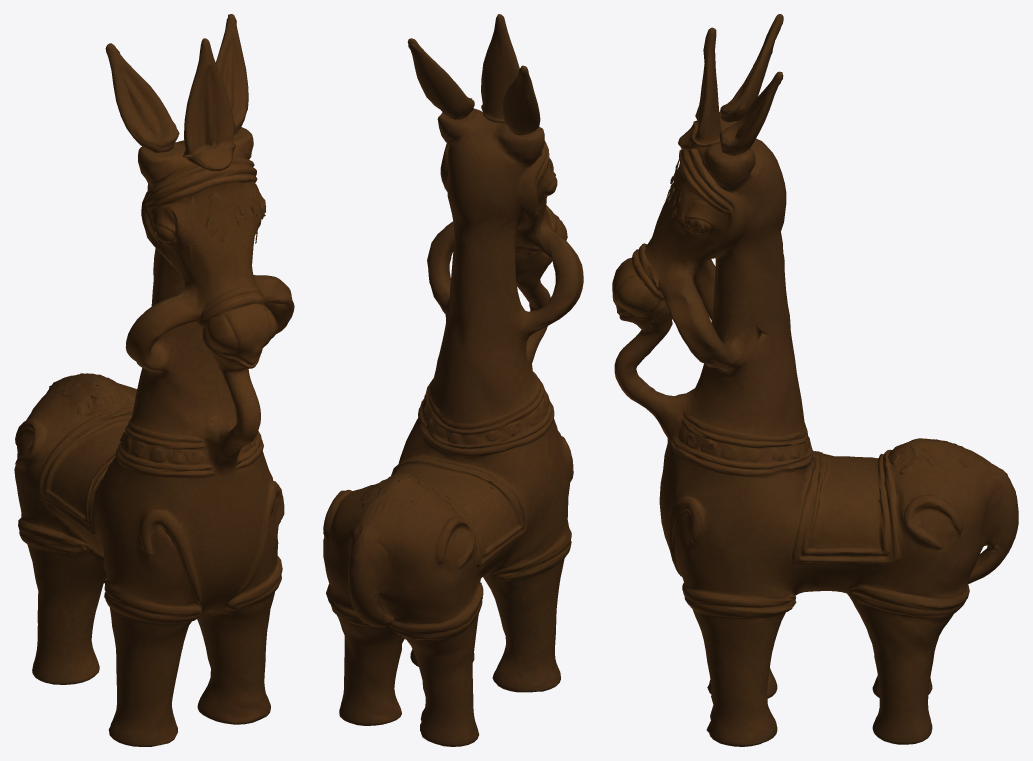
The model's file is bankura-horse.glb.
3 renders of one model, left to right at view 1: azimuth 30°, elevation 25°; view 2: azimuth 150°, elevation 25°; view 3: azimuth 270°, elevation 25°, orthographic. The views are drawn at different scales.
Visible parts, largest first — view 1: bankura-horse; view 2: bankura-horse; view 3: bankura-horse.
Part boxes in pixels (left/top/right/bottom): bankura-horse: left=14, top=14, right=294, bottom=746; bankura-horse: left=323, top=14, right=583, bottom=746; bankura-horse: left=612, top=14, right=1018, bottom=746.
Size of the model in its own units: 0.1105 by 0.45 by 0.2422.
1 material, 1 textured.
